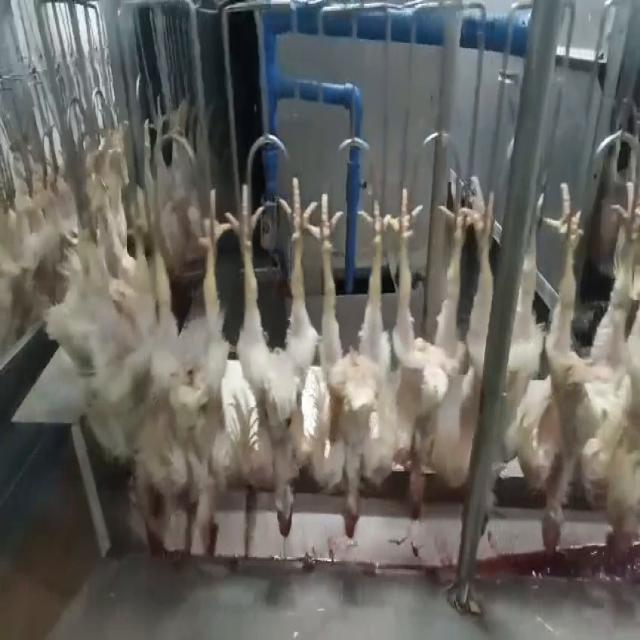chicken: (512, 186, 614, 560), (135, 183, 233, 554), (226, 161, 317, 542), (376, 173, 475, 519), (304, 186, 389, 542), (602, 176, 639, 562)
